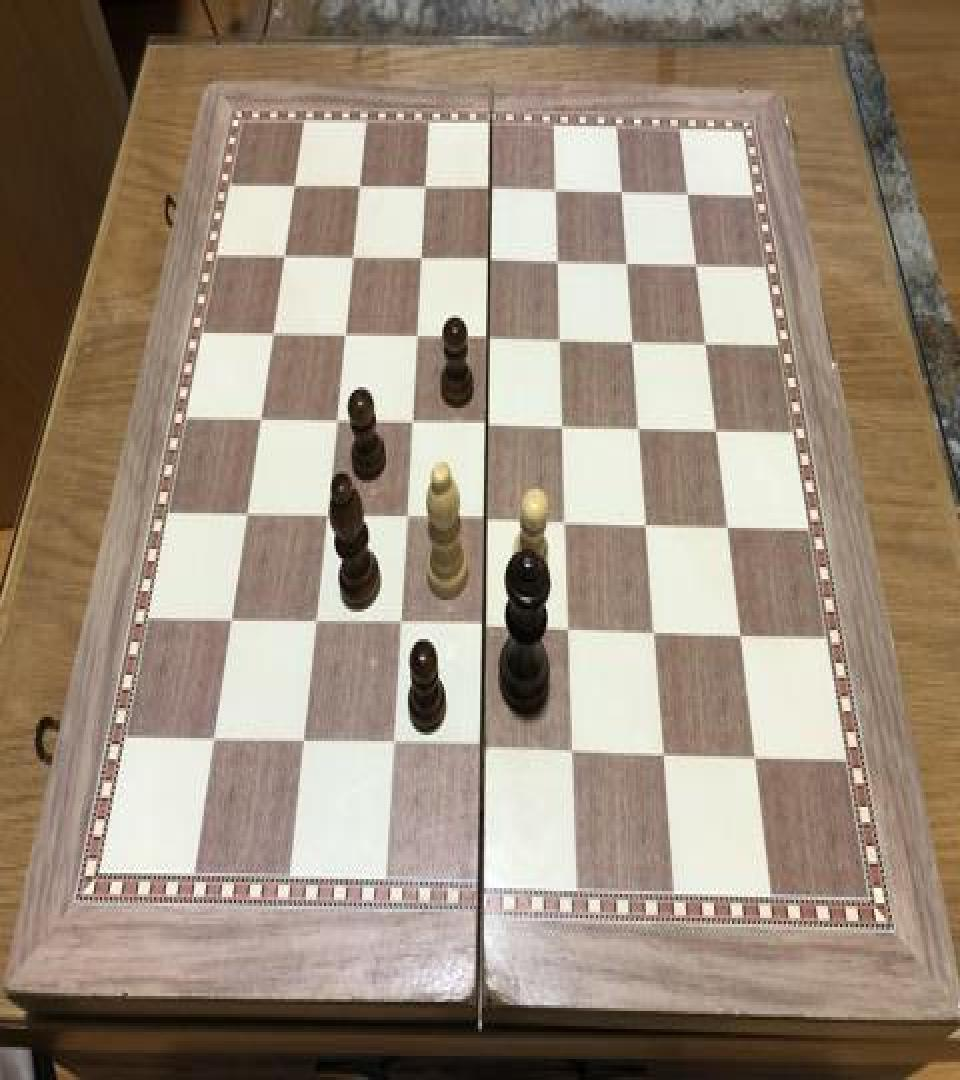xcorner: (558, 610, 582, 647), (675, 174, 699, 210), (544, 171, 568, 207), (479, 170, 503, 206), (414, 168, 438, 204), (349, 166, 373, 202), (284, 165, 308, 201), (683, 246, 707, 282), (615, 244, 639, 280), (546, 243, 570, 279), (478, 240, 502, 276), (410, 238, 434, 274), (342, 237, 366, 273), (274, 236, 298, 272), (693, 324, 717, 360), (621, 322, 645, 358), (549, 320, 573, 356), (477, 318, 501, 354), (405, 316, 429, 352), (334, 315, 358, 351), (263, 314, 287, 350), (703, 411, 727, 447), (627, 408, 651, 444), (551, 406, 575, 442), (476, 405, 500, 441), (400, 402, 424, 438), (325, 400, 349, 436), (250, 398, 274, 434), (715, 507, 739, 543), (635, 506, 659, 542), (554, 502, 578, 538), (474, 500, 498, 536), (395, 498, 419, 534), (315, 495, 339, 531), (236, 494, 260, 530), (728, 615, 752, 651), (643, 614, 667, 650), (473, 608, 497, 644), (388, 604, 412, 640), (304, 603, 328, 639), (220, 600, 244, 636), (743, 738, 767, 774), (652, 735, 676, 771), (562, 732, 586, 768), (471, 729, 495, 765), (381, 726, 405, 762), (292, 723, 316, 759), (202, 720, 226, 756), (609, 173, 633, 208)
